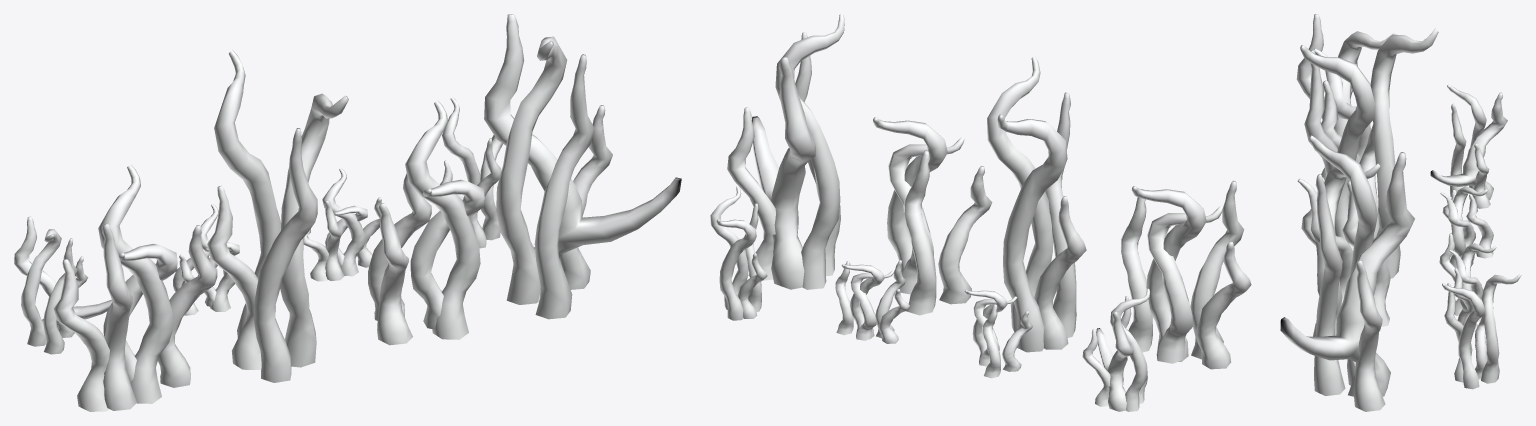
Rendered from M_Obstacle_CorruptedVines_01.fbx.
3 renders of one model, left to right at view 1: azimuth 30°, elevation 25°; view 2: azimuth 150°, elevation 25°; view 3: azimuth 270°, elevation 25°, orthographic. The views are drawn at different scales.
Parts seen in each view (by area): view 1: M_Obstacle_CorruptedVinesL_01, M_Obstacle_CorruptedVinesL_03, M_Obstacle_CorruptedVinesL_04, M_Obstacle_CorruptedVinesL_02, M_Obstacle_CorruptedVinesS_04, M_Obstacle_CorruptedVinesS_02, M_Obstacle_CorruptedVinesS_01, M_Obstacle_CorruptedVinesS_03; view 2: M_Obstacle_CorruptedVinesL_01, M_Obstacle_CorruptedVinesL_03, M_Obstacle_CorruptedVinesL_04, M_Obstacle_CorruptedVinesL_02, M_Obstacle_CorruptedVinesS_04, M_Obstacle_CorruptedVinesS_01, M_Obstacle_CorruptedVinesS_02, M_Obstacle_CorruptedVinesS_03; view 3: M_Obstacle_CorruptedVinesL_01, M_Obstacle_CorruptedVinesL_03, M_Obstacle_CorruptedVinesS_01, M_Obstacle_CorruptedVinesL_02, M_Obstacle_CorruptedVinesL_04, M_Obstacle_CorruptedVinesS_04, M_Obstacle_CorruptedVinesS_03, M_Obstacle_CorruptedVinesS_02.
Part boxes in pixels (x1=…): M_Obstacle_CorruptedVinesL_01: x1=484, y1=14, x2=681, y2=319; M_Obstacle_CorruptedVinesL_03: x1=207, y1=49, x2=348, y2=382; M_Obstacle_CorruptedVinesL_04: x1=53, y1=165, x2=217, y2=411; M_Obstacle_CorruptedVinesL_02: x1=368, y1=101, x2=484, y2=345; M_Obstacle_CorruptedVinesS_04: x1=14, y1=216, x2=112, y2=354; M_Obstacle_CorruptedVinesS_02: x1=304, y1=168, x2=381, y2=281; M_Obstacle_CorruptedVinesS_01: x1=440, y1=97, x2=502, y2=248; M_Obstacle_CorruptedVinesS_03: x1=173, y1=204, x2=239, y2=315; M_Obstacle_CorruptedVinesL_01: x1=727, y1=14, x2=844, y2=289; M_Obstacle_CorruptedVinesL_03: x1=987, y1=56, x2=1086, y2=352; M_Obstacle_CorruptedVinesL_04: x1=1121, y1=180, x2=1251, y2=369; M_Obstacle_CorruptedVinesL_02: x1=873, y1=117, x2=992, y2=315; M_Obstacle_CorruptedVinesS_04: x1=1082, y1=288, x2=1149, y2=411; M_Obstacle_CorruptedVinesS_01: x1=710, y1=186, x2=767, y2=320; M_Obstacle_CorruptedVinesS_02: x1=835, y1=260, x2=910, y2=343; M_Obstacle_CorruptedVinesS_03: x1=964, y1=290, x2=1032, y2=378; M_Obstacle_CorruptedVinesL_01: x1=1280, y1=135, x2=1414, y2=411; M_Obstacle_CorruptedVinesL_03: x1=1300, y1=28, x2=1438, y2=278; M_Obstacle_CorruptedVinesS_01: x1=1442, y1=274, x2=1521, y2=389; M_Obstacle_CorruptedVinesL_02: x1=1297, y1=163, x2=1390, y2=336; M_Obstacle_CorruptedVinesL_04: x1=1296, y1=14, x2=1394, y2=180; M_Obstacle_CorruptedVinesS_04: x1=1430, y1=84, x2=1507, y2=208; M_Obstacle_CorruptedVinesS_03: x1=1440, y1=186, x2=1493, y2=268; M_Obstacle_CorruptedVinesS_02: x1=1439, y1=233, x2=1496, y2=331.
Bounding box in the file's own units: 757 × 347 × 304.
